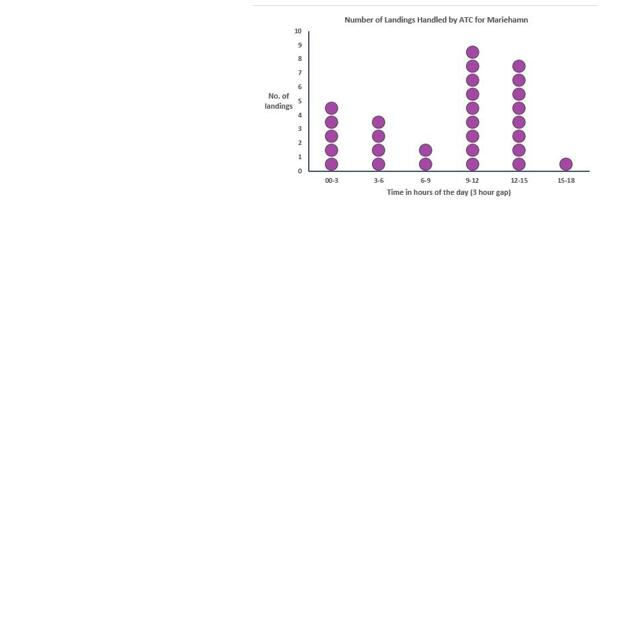Graph: (253, 5, 597, 207)
